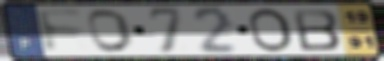2: (190, 5, 243, 56)
7: (146, 6, 185, 55)
B: (290, 8, 343, 52)
F: (34, 8, 87, 55)
O: (85, 8, 136, 54), (247, 7, 296, 54)
